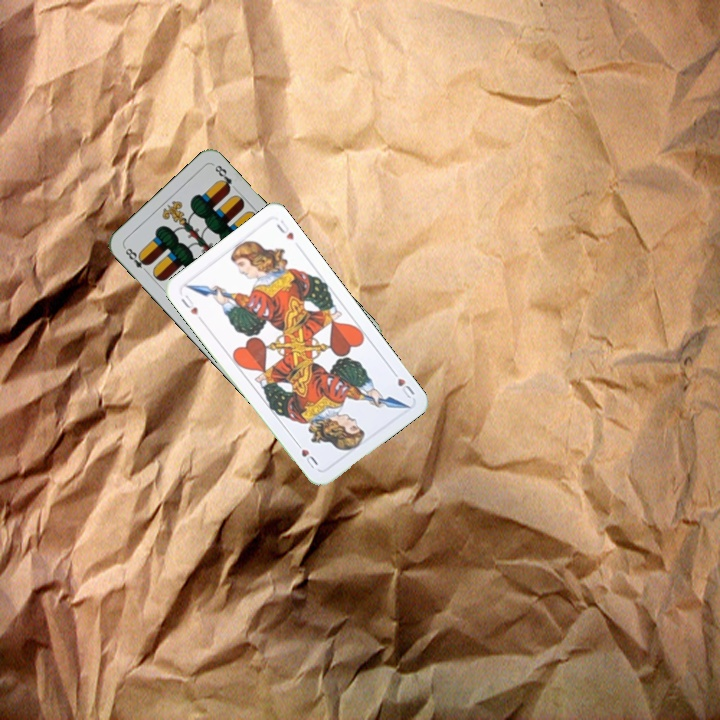E8: (120, 243, 152, 277)
HU: (387, 365, 417, 401), (176, 291, 201, 318)
